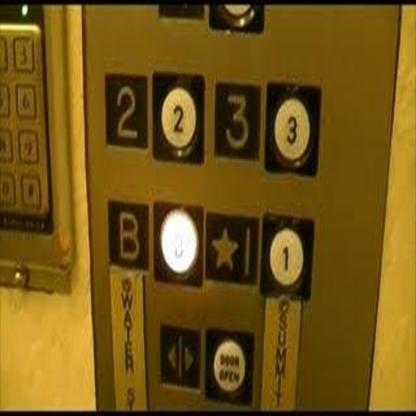1: (260, 212, 314, 298)
2: (152, 70, 204, 165), (104, 72, 148, 148)
3: (264, 80, 321, 178), (214, 80, 260, 161), (12, 34, 34, 72)
6: (15, 82, 36, 118)
9: (18, 129, 38, 162)
B: (107, 197, 150, 273)
blur: (153, 200, 203, 287), (21, 174, 40, 206)
open: (160, 324, 201, 392)
s1: (204, 209, 259, 285)
text_open door: (204, 325, 254, 406)
